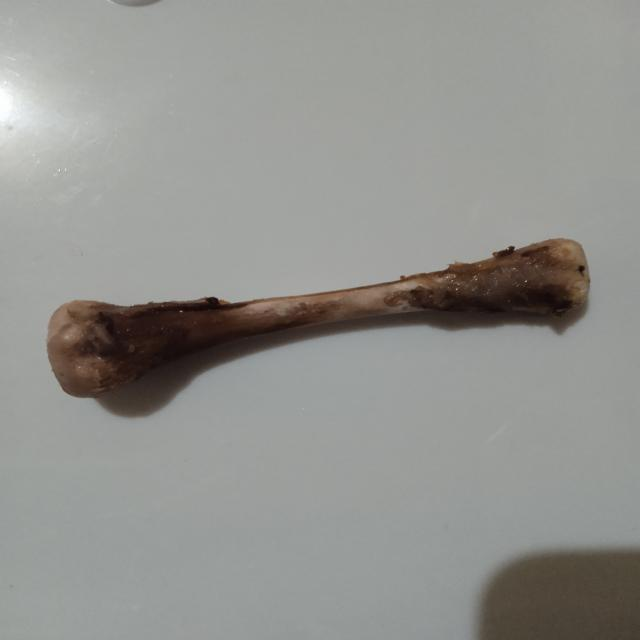bone: (41, 230, 596, 402)
